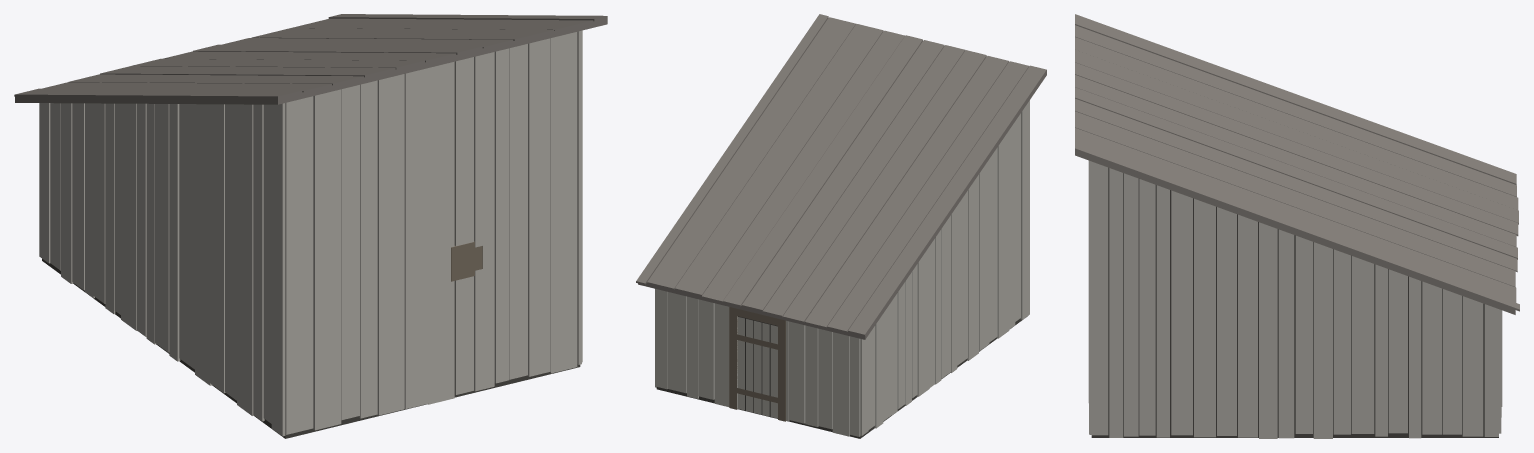
Rendered from recon_1835_west_050__inferred_1835.glb.
3 views of the same model, side by side, from view 1: azimuth 30°, elevation 25°; view 2: azimuth 150°, elevation 25°; view 3: azimuth 270°, elevation 25° (orthographic). The views are drawn at different scales.
Parts seen in each view (by area): view 1: recon_1835_west_050__inferred_1835; view 2: recon_1835_west_050__inferred_1835; view 3: recon_1835_west_050__inferred_1835.
Part boxes in pixels (<box>): recon_1835_west_050__inferred_1835: <box>14,14,607,438</box>; recon_1835_west_050__inferred_1835: <box>636,14,1046,438</box>; recon_1835_west_050__inferred_1835: <box>1075,14,1519,438</box>.
Size of the model in its own units: 4.76 by 4.89 by 6.66.
